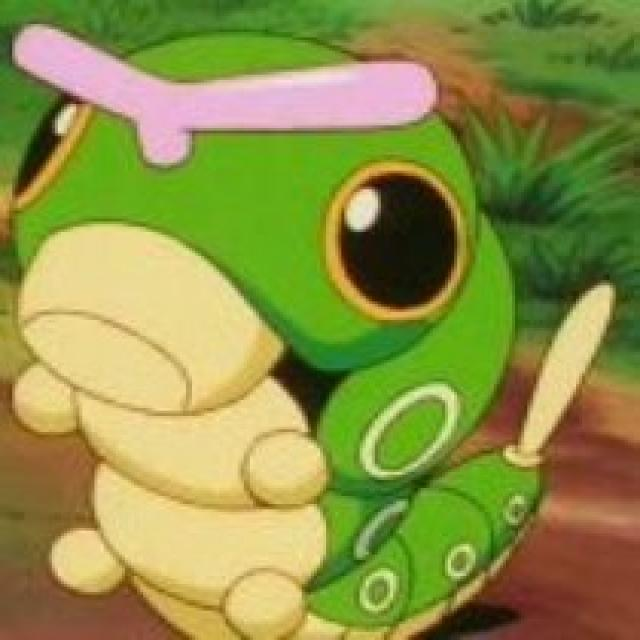Caterpie: (11, 18, 613, 640)
